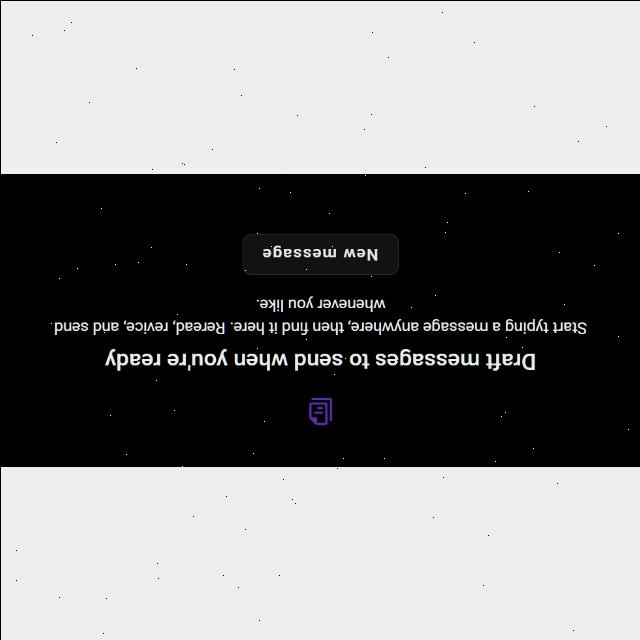QLabel: (104, 348, 536, 370), (52, 320, 586, 334), (253, 296, 384, 312), (262, 244, 378, 262)
VBtn: (242, 234, 398, 276)
VIcon: (307, 397, 333, 427)
